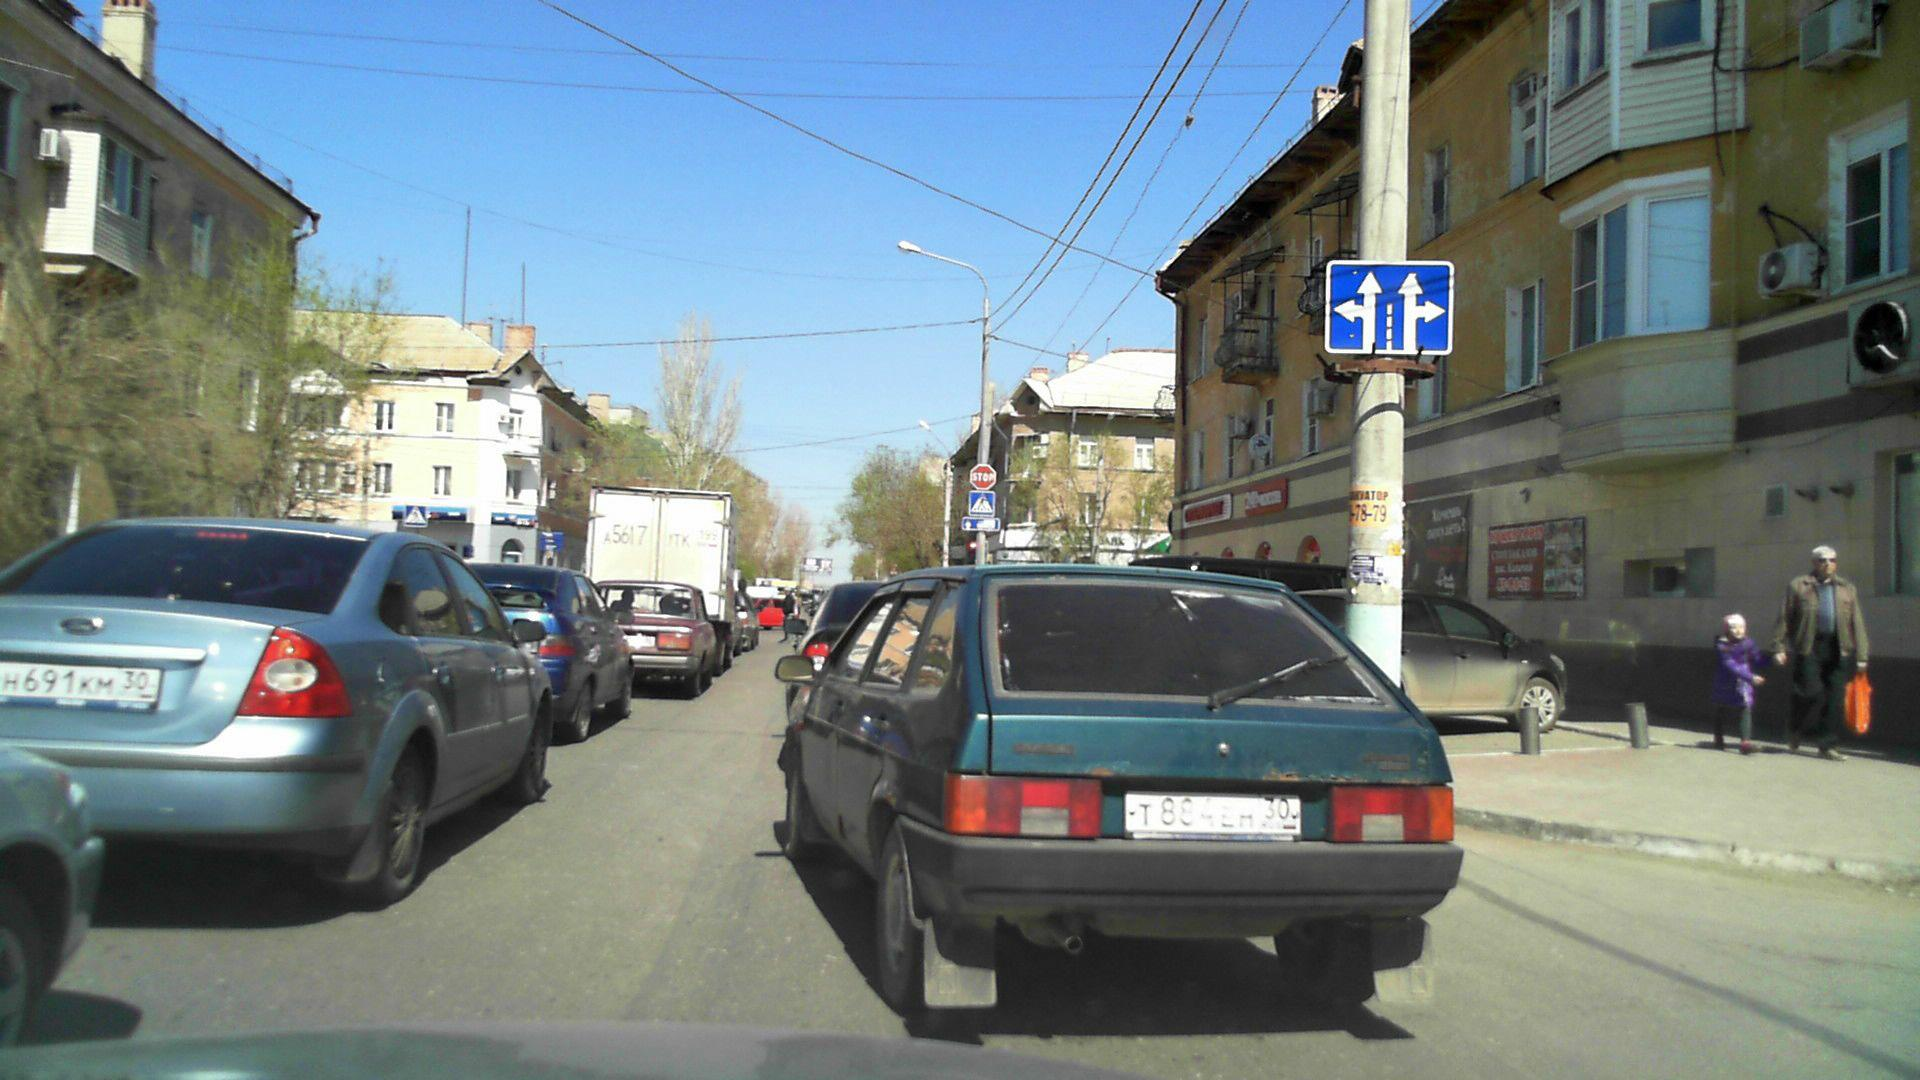2_5: (969, 464, 996, 491)
5_15_1: (1321, 262, 1456, 359)
5_19_1: (969, 491, 994, 514)
5_19_2: (402, 502, 427, 529)
6_15_1: (961, 517, 1000, 533)
